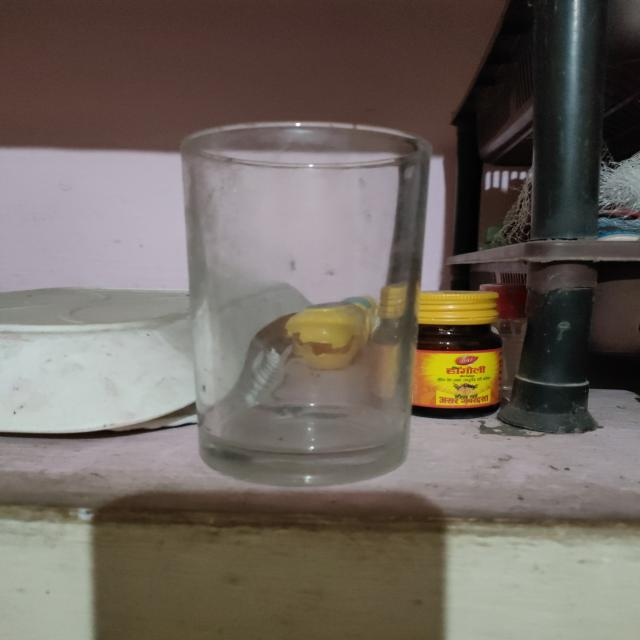Glass: (175, 115, 436, 490)
